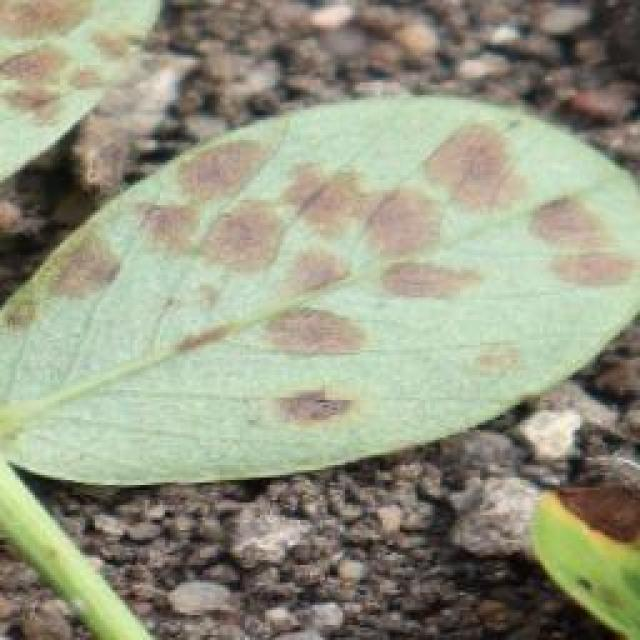Whitefly: (0, 0, 640, 473)
